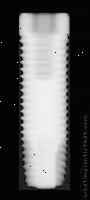Neoss: (19, 13, 70, 190)
